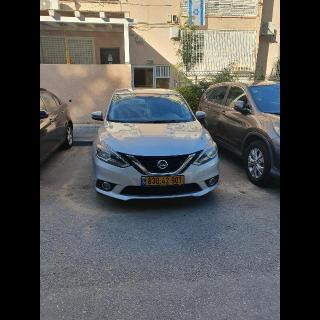LicensePlate: (146, 177, 184, 184)
